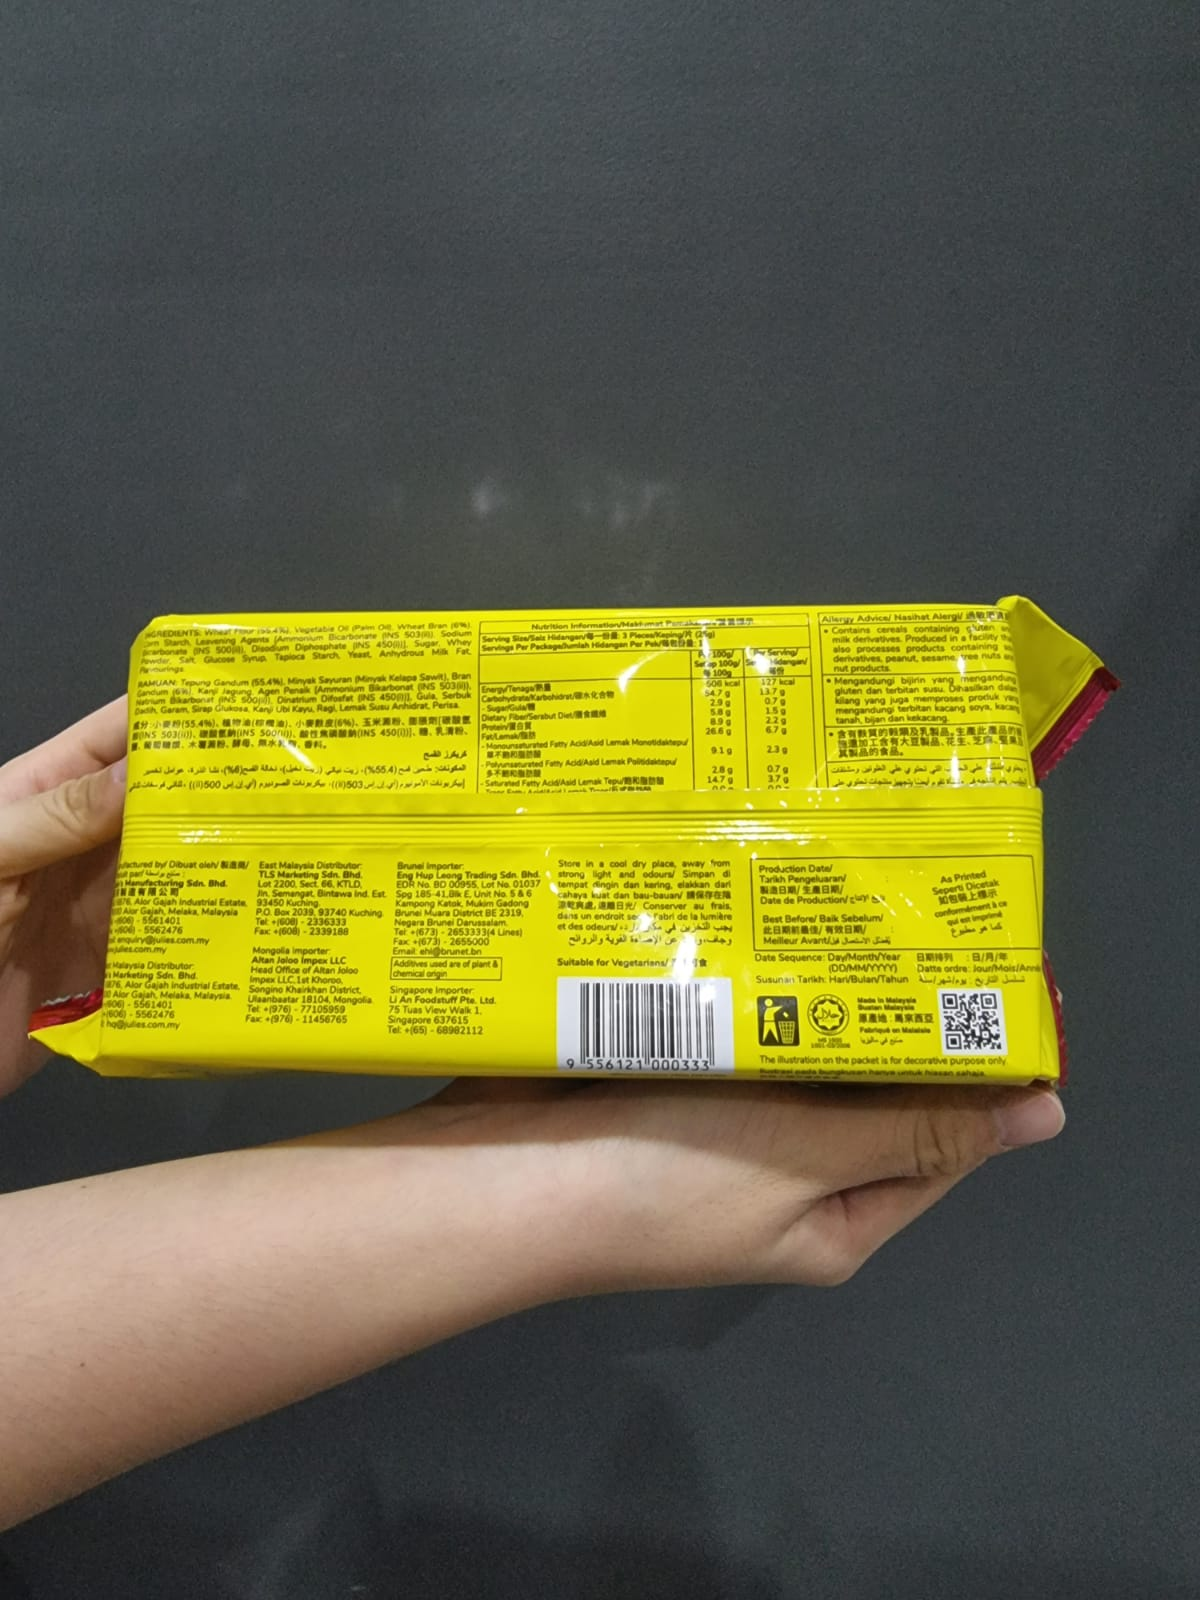Biscuits: (142, 631, 1041, 1076)
